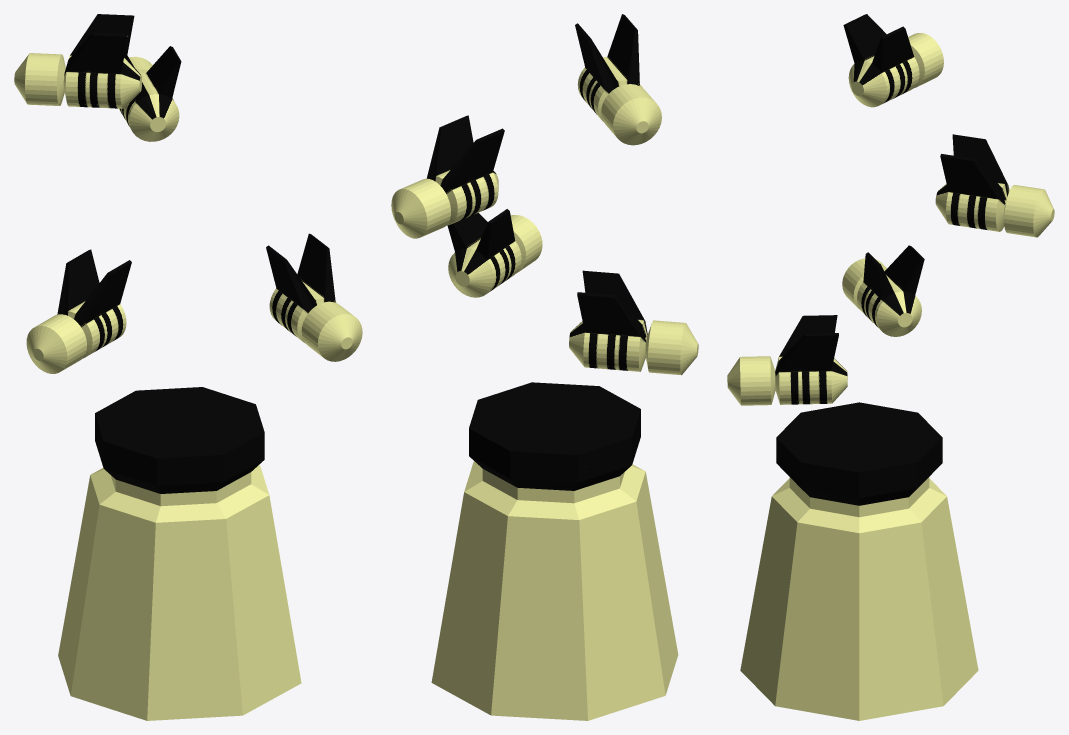
Rendered from honeypot00.fbx.
3 views of the same model, side by side, from view 1: azimuth 30°, elevation 25°; view 2: azimuth 150°, elevation 25°; view 3: azimuth 270°, elevation 25° (orthographic). The views are drawn at different scales.
Parts seen in each view (by area): view 1: honeypot, bee.003, bee.001, bee.004, bee.002; view 2: honeypot, bee.001, bee.002, bee.003, bee.004; view 3: honeypot, bee.002, bee.004, bee.003, bee.001.
Boxes of the visible parts, box(x1,y1,x2,y2) form: honeypot: box(58, 387, 301, 720); bee.003: box(14, 14, 141, 108); bee.001: box(26, 249, 131, 373); bee.004: box(266, 233, 362, 361); bee.002: box(119, 46, 181, 141); honeypot: box(431, 382, 678, 720); bee.001: box(569, 270, 698, 375); bee.002: box(391, 115, 504, 238); bee.003: box(575, 14, 661, 145); bee.004: box(447, 209, 542, 297); honeypot: box(740, 402, 978, 720); bee.002: box(935, 134, 1054, 237); bee.004: box(727, 315, 847, 405); bee.003: box(843, 14, 943, 107); bee.001: box(842, 245, 924, 336).
Bounding box in the file's own units: 689 × 1633 × 782.
